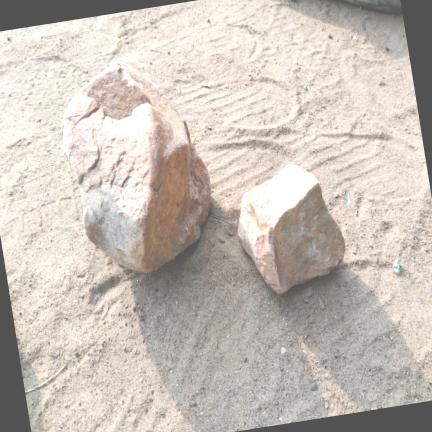Rocks: (62, 62, 210, 272), (237, 165, 344, 293), (392, 259, 400, 275), (310, 382, 317, 391), (332, 192, 338, 198), (280, 348, 285, 355)
